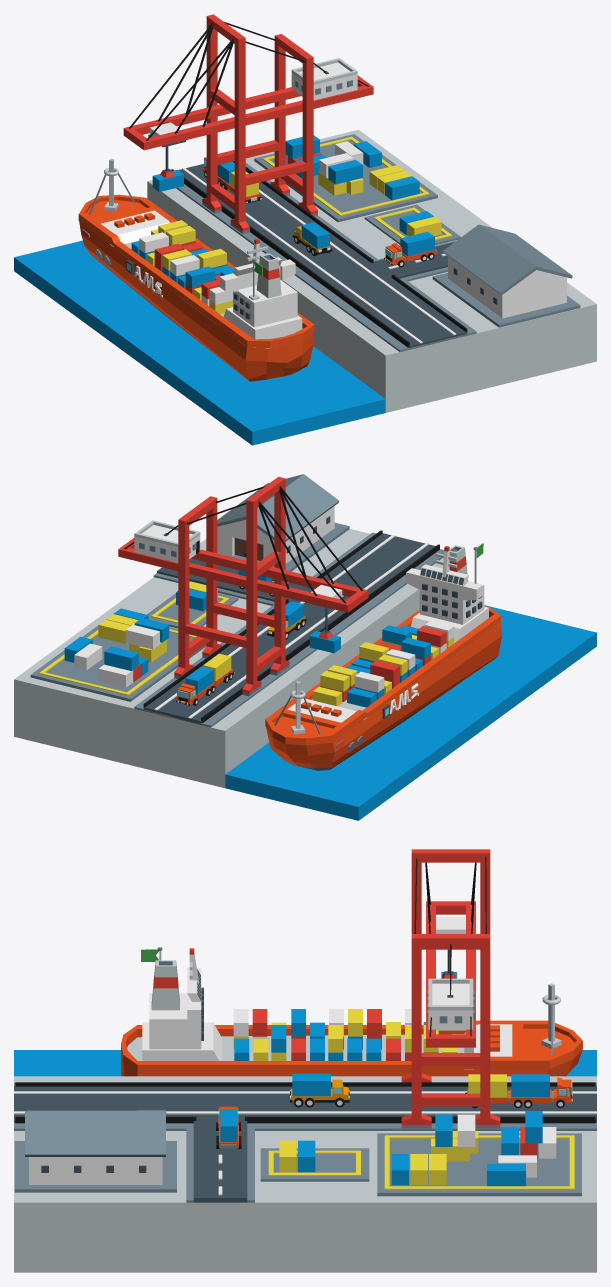
File: Storage Ship.glb
3 renders of one model, top to bottom at view 1: azimuth 30°, elevation 25°; view 2: azimuth 150°, elevation 25°; view 3: azimuth 270°, elevation 25°, orthographic. The views are drawn at different scales.
Visible parts, largest first — view 1: group190893547, group1196106066, group147904597, group1126082673, group1692546767, group658744810, group30039753, group741089094, group1237844620, group1441821170, group8403489, group753703270 (+19 smaller); view 2: group190893547, group1196106066, group147904597, group1126082673, group1692546767, group30039753, group741089094, group716664346, group1441821170, group658744810, group1010171320, group1355834799 (+20 smaller); view 3: group190893547, group1196106066, group1126082673, group30039753, group369223564, group1545566040, group147904597, group1692546767, group1355834799, group912731662, group753703270, group2055348084 (+29 smaller).
Boxes of the visible parts, x1,y1,x2,y2 form: group190893547: [147, 129, 596, 412]; group1196106066: [78, 158, 314, 381]; group147904597: [14, 240, 385, 445]; group1126082673: [178, 162, 466, 347]; group1692546767: [230, 35, 317, 233]; group658744810: [443, 224, 536, 295]; group30039753: [254, 134, 437, 222]; group741089094: [176, 163, 476, 351]; group1237844620: [140, 84, 373, 150]; group1441821170: [202, 14, 221, 210]; group8403489: [291, 58, 357, 100]; group753703270: [432, 273, 580, 327]; group190893547: [14, 529, 443, 787]; group1196106066: [265, 543, 501, 770]; group147904597: [225, 605, 596, 820]; group1126082673: [144, 533, 435, 724]; group1692546767: [202, 476, 289, 675]; group30039753: [30, 625, 206, 701]; group741089094: [134, 532, 444, 727]; group716664346: [118, 546, 352, 612]; group1441821170: [242, 497, 261, 693]; group658744810: [257, 474, 339, 541]; group1010171320: [174, 517, 193, 676]; group1355834799: [176, 653, 234, 705]; group190893547: [14, 1076, 596, 1272]; group1196106066: [121, 947, 582, 1076]; group1126082673: [14, 1086, 596, 1122]; group30039753: [377, 1133, 581, 1196]; group369223564: [25, 1110, 165, 1156]; group1545566040: [193, 1119, 247, 1202]; group147904597: [14, 1050, 596, 1076]; group1692546767: [401, 849, 431, 1128]; group1355834799: [465, 1074, 572, 1108]; group912731662: [37, 1161, 153, 1184]; group753703270: [14, 1141, 176, 1192]; group2055348084: [260, 1148, 369, 1181].
Bounding box in the file's own units: 3.9 × 2.71 × 4.67.
